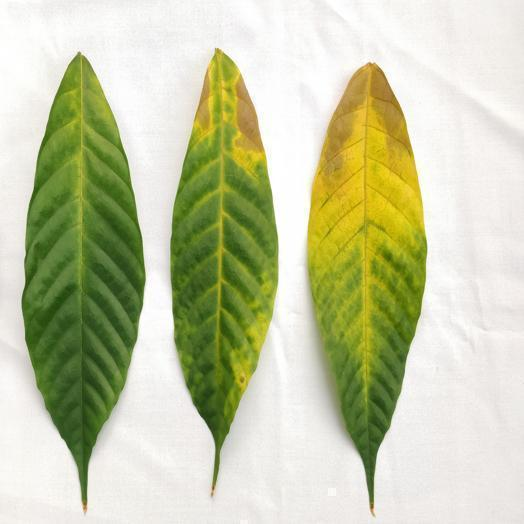Healthy Leaf: (22, 53, 144, 510)
Potassium: (308, 63, 426, 513), (171, 49, 277, 493)
